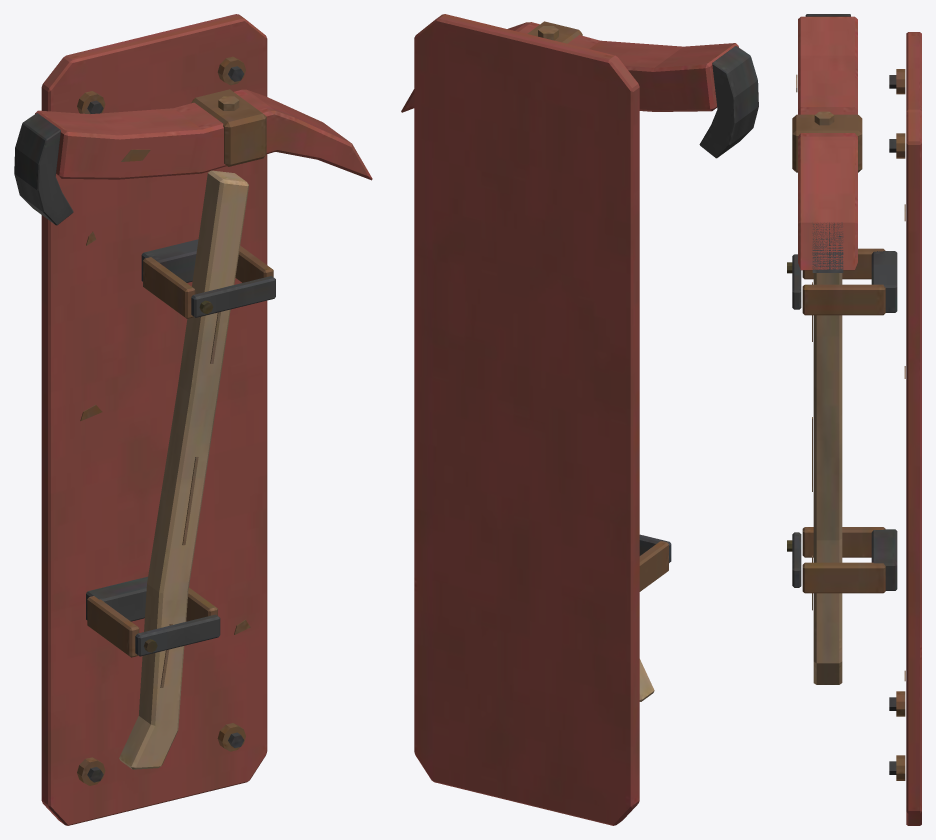
Rendered from O27_fire_axe_on_wall.glb.
3 renders of one model, left to right at view 1: azimuth 30°, elevation 25°; view 2: azimuth 150°, elevation 25°; view 3: azimuth 270°, elevation 25°, orthographic. The views are drawn at different scales.
Visible parts, largest first — view 1: Clipped mounting plate; view 2: Clipped mounting plate; view 3: Clipped mounting plate.
Boxes of the visible parts, x1,y1,x2,y2 form: Clipped mounting plate: [14, 14, 372, 825]; Clipped mounting plate: [401, 14, 758, 825]; Clipped mounting plate: [787, 14, 921, 825].
Size of the model in its own units: 0.365 by 0.8 by 0.137.
Materials: 6 (6 with a texture image).
